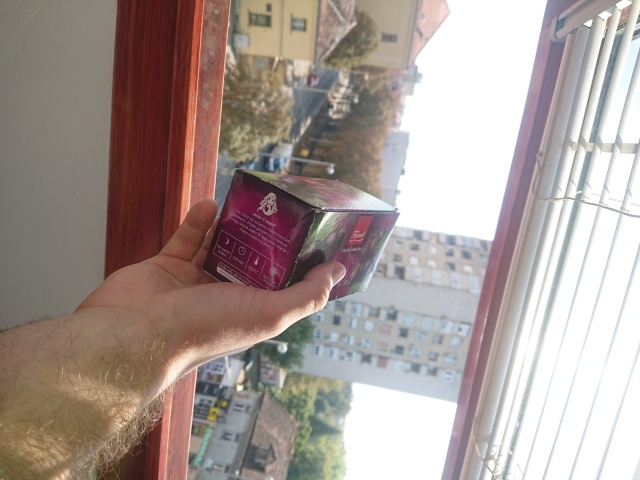Franck Black Currant Tea 60g: (199, 166, 402, 315)
